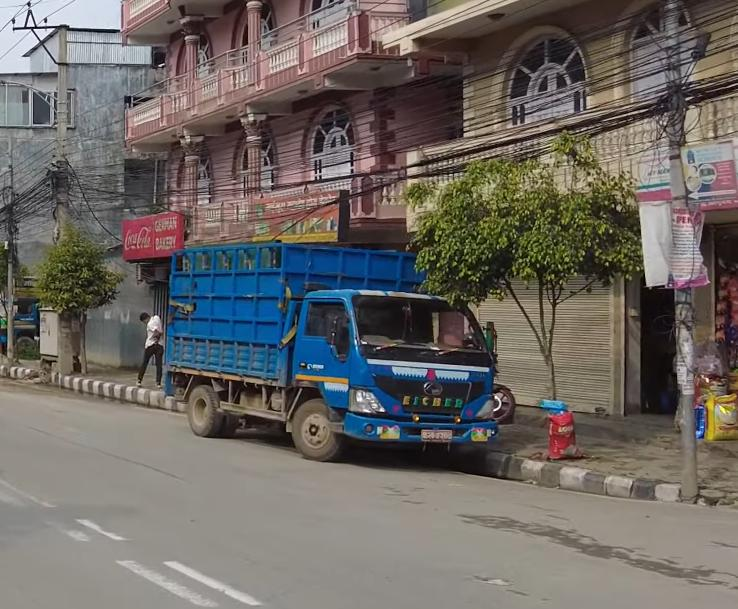mini_truck: (164, 231, 517, 467)
